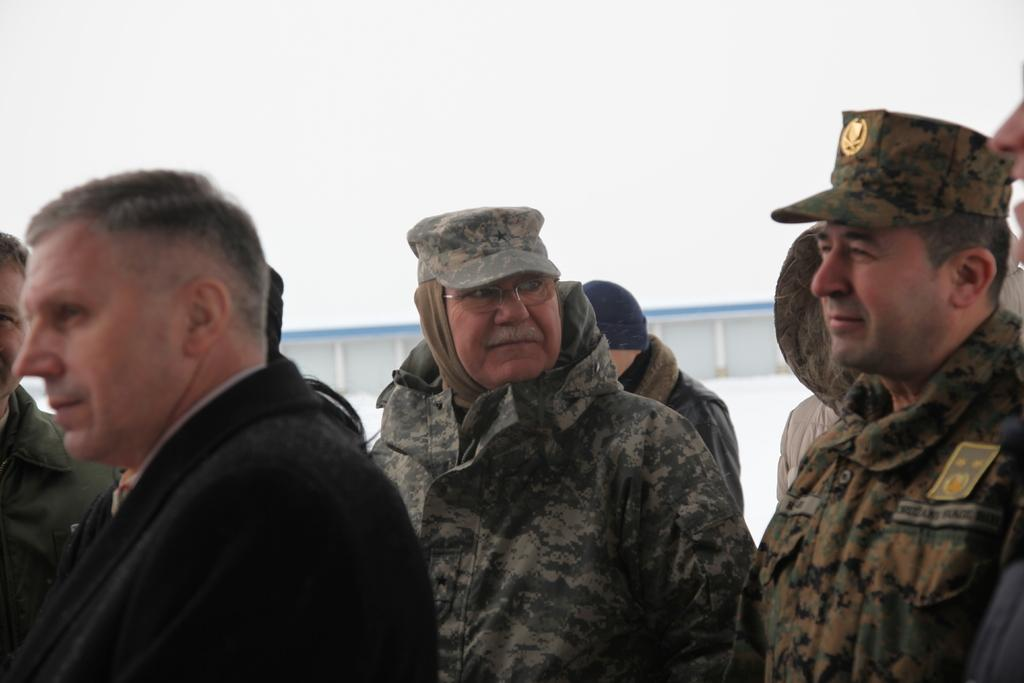Hat: (771, 108, 1011, 232), (407, 207, 559, 292)
